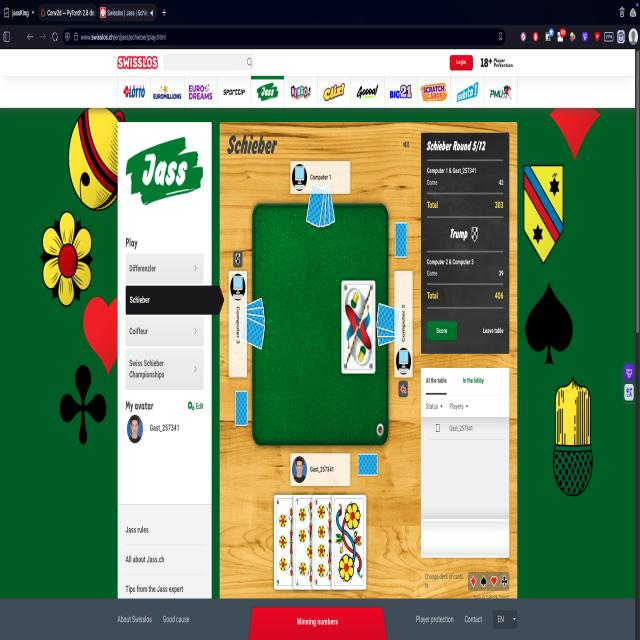ei10: (342, 282, 376, 371)
ro6: (274, 495, 308, 589)
ro7: (294, 494, 328, 588)
ro8: (312, 492, 345, 588)
roa: (333, 494, 366, 586)
